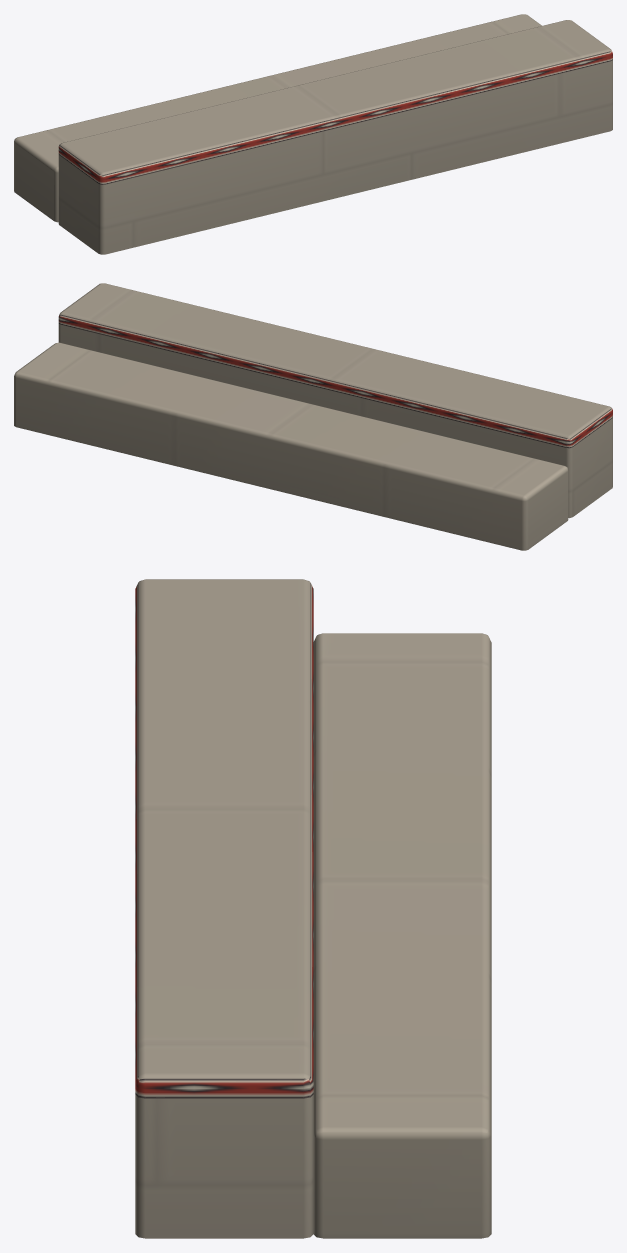
The model's file is market_gallery.glb.
3 renders of one model, top to bottom at view 1: azimuth 30°, elevation 25°; view 2: azimuth 150°, elevation 25°; view 3: azimuth 270°, elevation 25°, orthographic. The views are drawn at different scales.
Visible parts, largest first — view 1: market_gallery.001; view 2: market_gallery.001; view 3: market_gallery.001.
Part boxes in pixels (<box>): market_gallery.001: <box>14,14,612,254</box>; market_gallery.001: <box>14,283,612,550</box>; market_gallery.001: <box>135,579,491,1238</box>.
Size of the model in its own units: 6 by 0.9 by 1.8.
Materials: 1 (1 with a texture image).
